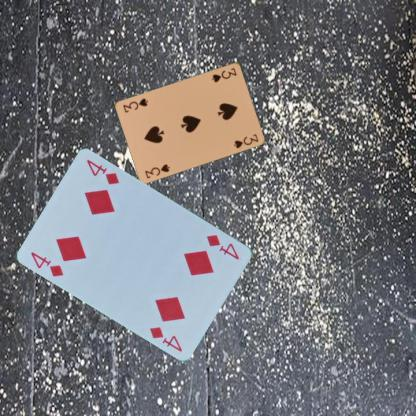3s: (142, 161, 172, 180), (209, 65, 238, 83)
4d: (204, 232, 241, 261), (29, 249, 66, 278)
